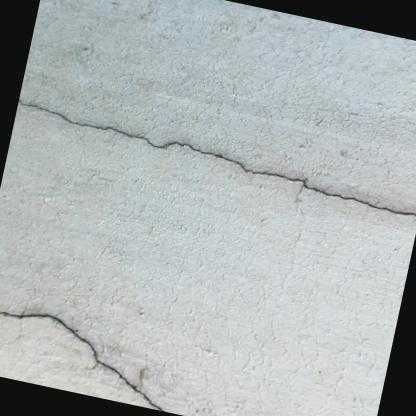crack: (18, 97, 416, 216), (0, 308, 168, 412)
